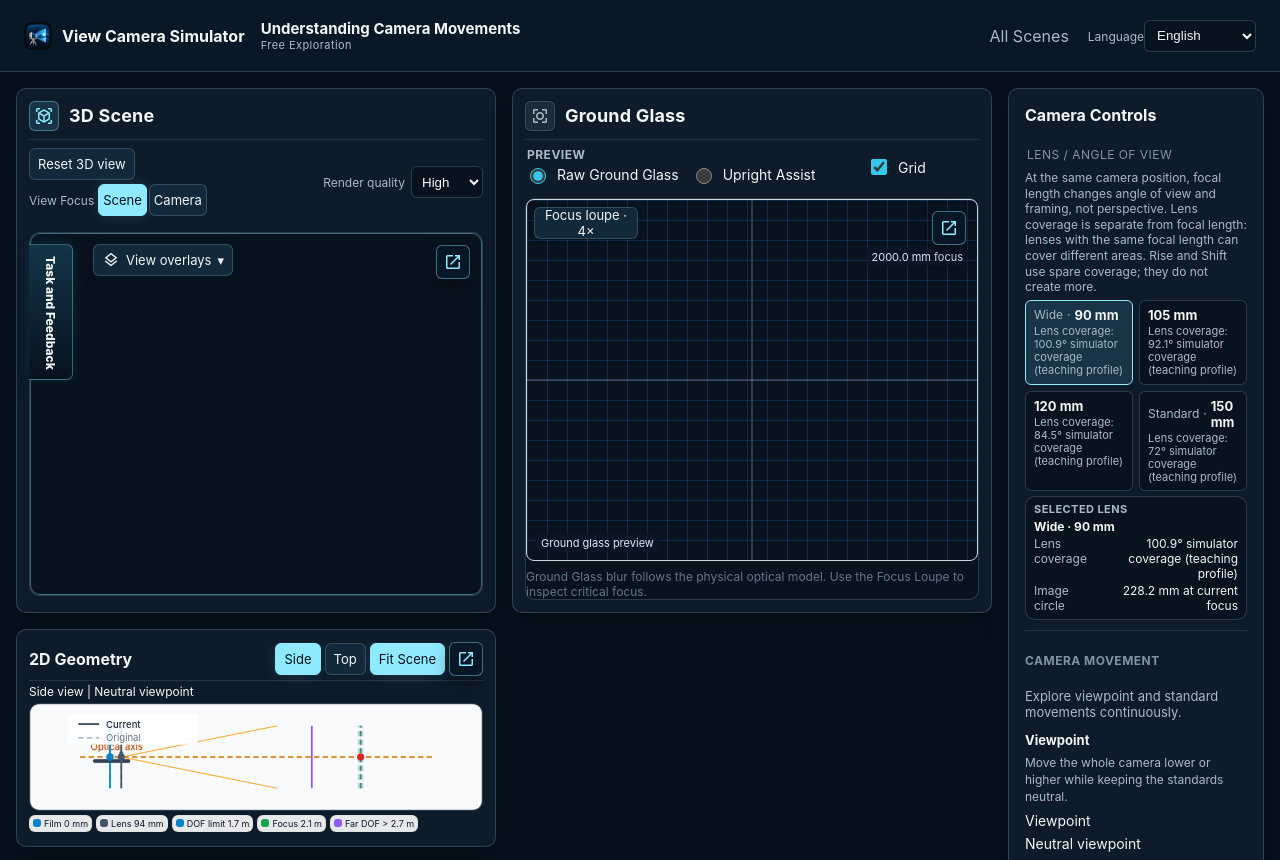
Test: simulator header › updates public control and viewport labels, including accessible names, without reload
The width and height of the screenshot is (1280, 860).
Expected: the heading "3D Scene" is shown, [69, 106, 154, 126]
Expected: the button "Reset 3D view" is shown, [29, 148, 135, 180]
Select "繁體中文" in the dropdown labelled "Language" at (1200, 36), box [1144, 20, 1256, 52]
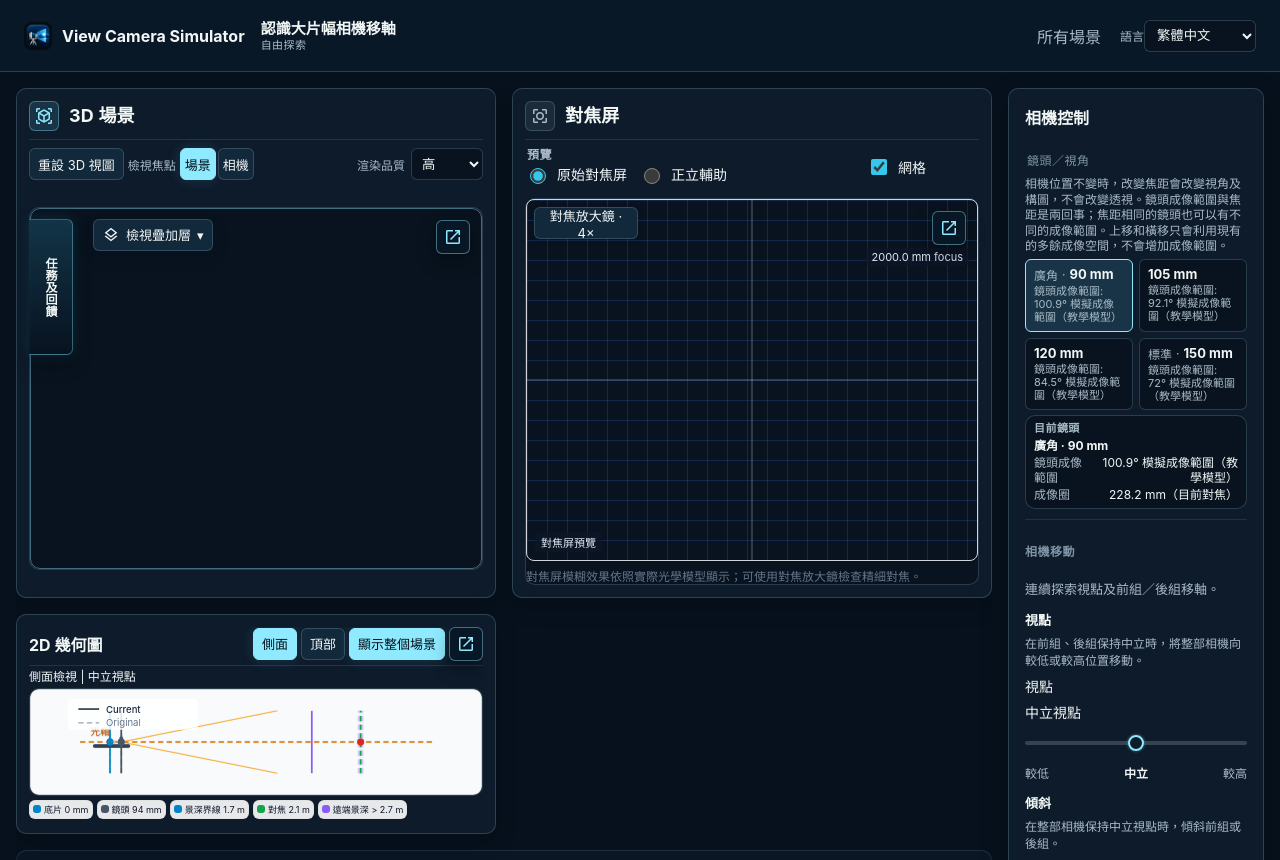
Expected: the slider labelled "視點" is shown, [1025, 729, 1247, 757]
Expected: the heading "3D 場景" is shown, [69, 106, 135, 126]
Expected: the button "重設 3D 視圖" is shown, [29, 148, 124, 180]
Select "English" in the dropdown labelled "語言" at (1200, 36), box [1144, 20, 1256, 52]
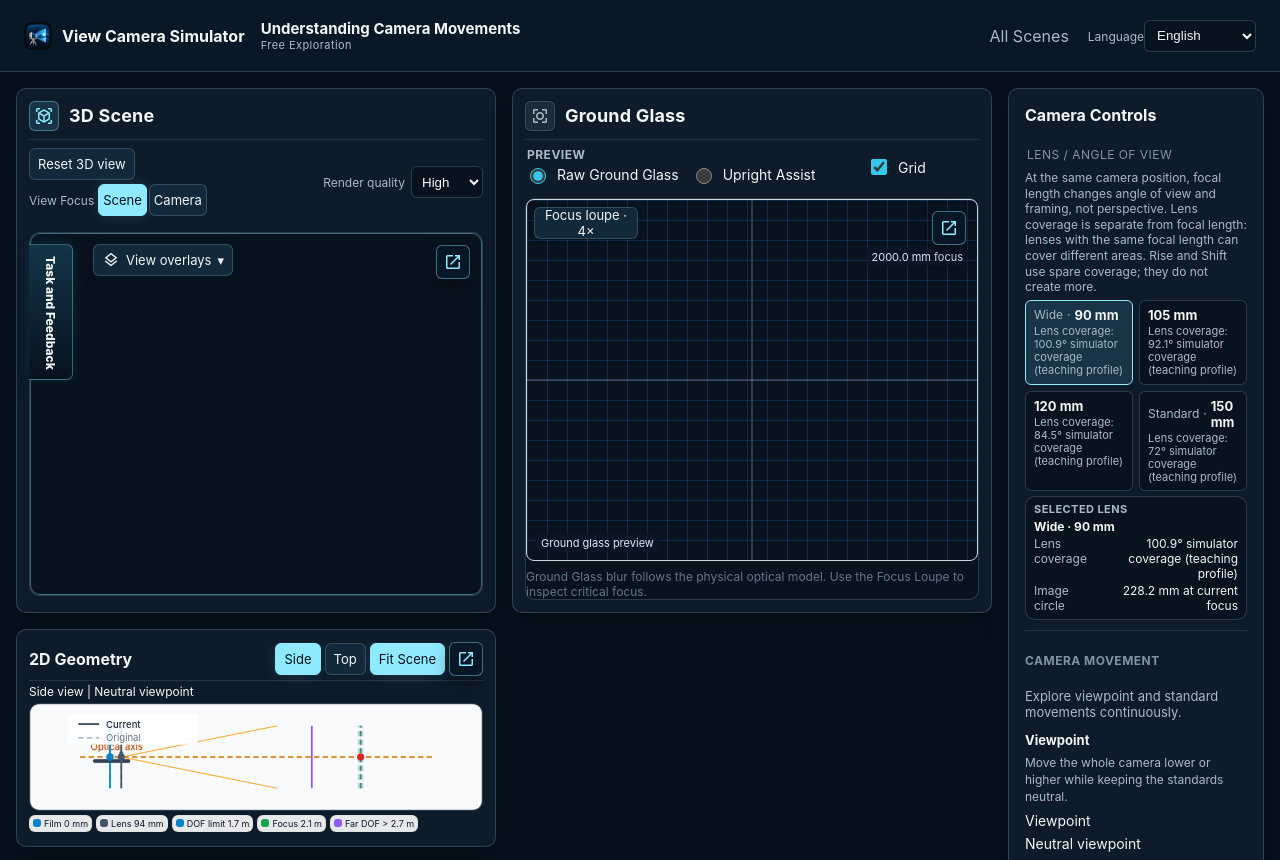
Expected: the button named "Expand 3D Scene" is shown, [436, 245, 470, 279]
